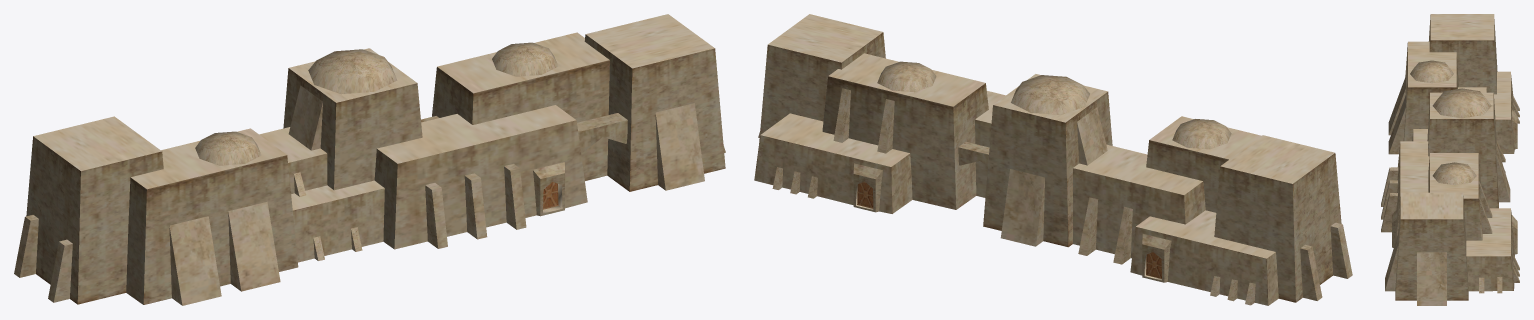
Rendered from thm_tato_block_bldg_64x16_s02_l2.fbx.
The picture shows the model from 3 angles, left to right: view 1: azimuth 30°, elevation 25°; view 2: azimuth 150°, elevation 25°; view 3: azimuth 270°, elevation 25°; orthographic projection. The views are drawn at different scales.
Visible parts, largest first — view 1: mesh_node; view 2: mesh_node; view 3: mesh_node.
Boxes of the visible parts, x1,y1,x2,y2 form: mesh_node: (14, 14, 725, 305); mesh_node: (754, 14, 1352, 305); mesh_node: (1381, 14, 1519, 305).
Size of the model in its own units: 67.12 by 15.05 by 18.41.
